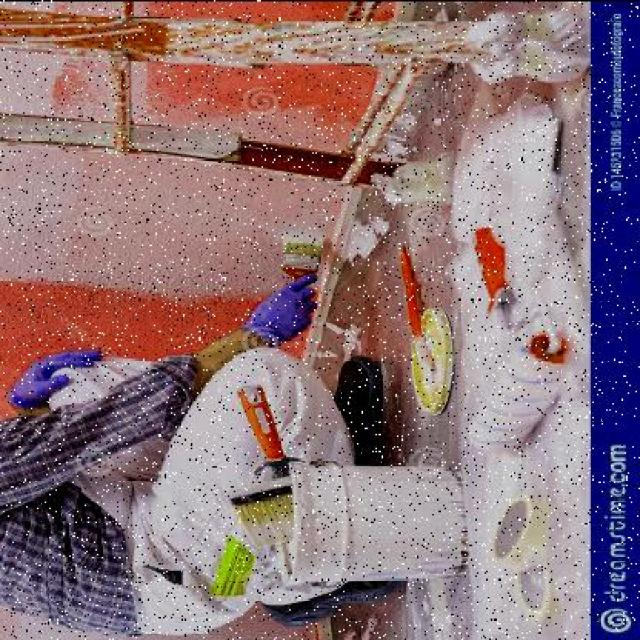shoes: (334, 361, 386, 462)
